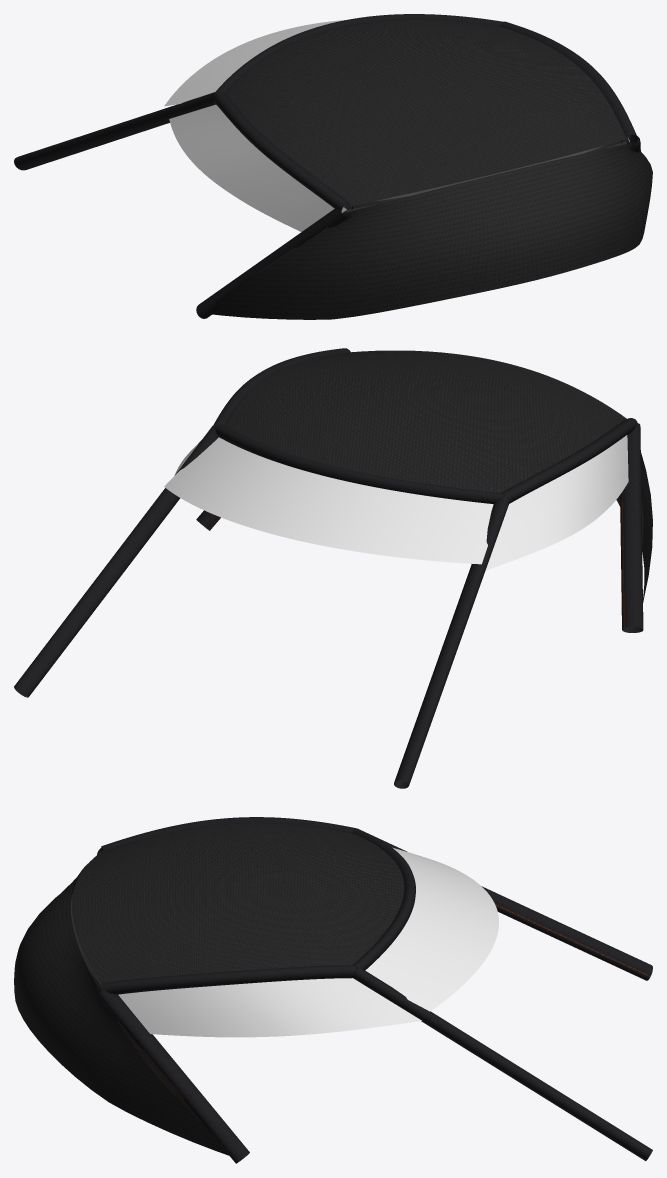
File: roof_hd.glb
The picture shows the model from 3 angles, top to bottom: view 1: azimuth 30°, elevation 25°; view 2: azimuth 150°, elevation 25°; view 3: azimuth 270°, elevation 25°; orthographic projection.
Parts seen in each view (by area): view 1: Roof, RoofGlass; view 2: Roof, RoofGlass; view 3: Roof, RoofGlass.
Boxes of the visible parts, x1=… form: Roof: x1=14, y1=14, x2=652, y2=319; RoofGlass: x1=164, y1=20, x2=629, y2=231; Roof: x1=14, y1=348, x2=652, y2=788; RoofGlass: x1=164, y1=435, x2=628, y2=570; Roof: x1=14, y1=817, x2=652, y2=1163; RoofGlass: x1=118, y1=847, x2=498, y2=1037.
Bounding box in the file's own units: 1.29 × 0.5382 × 1.63.
Materials: 2 (1 with a texture image).
